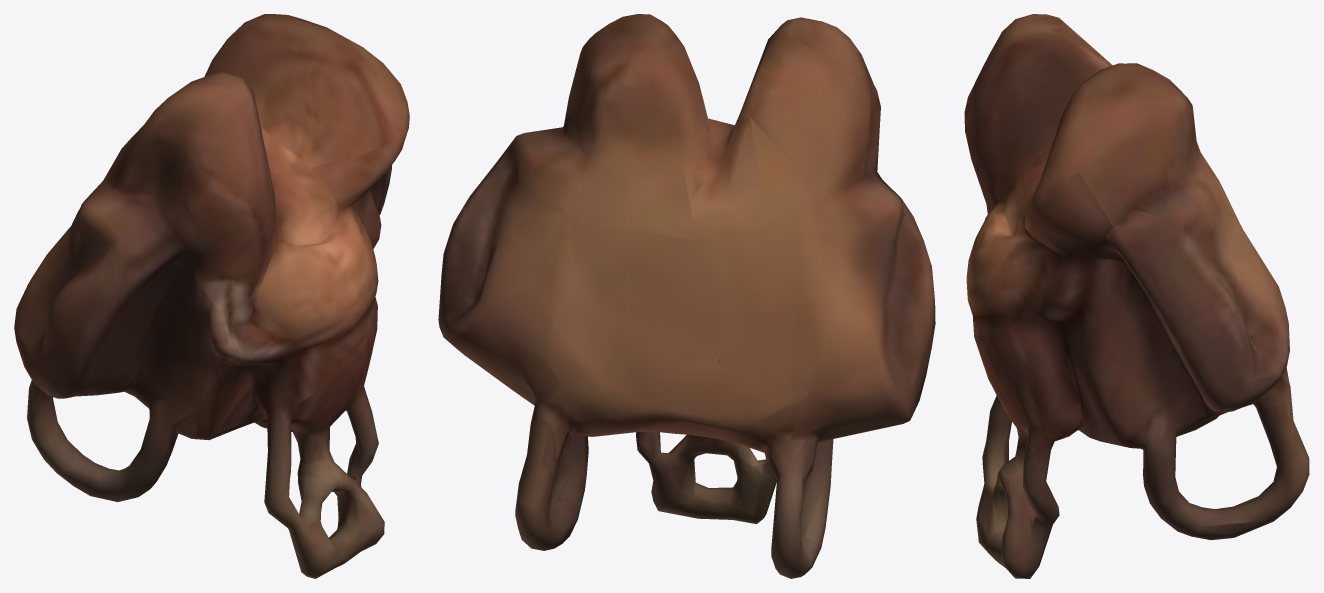
The model's file is v24_fardo_couro.glb.
3 renders of one model, left to right at view 1: azimuth 30°, elevation 25°; view 2: azimuth 150°, elevation 25°; view 3: azimuth 270°, elevation 25°, orthographic. The views are drawn at different scales.
Visible parts, largest first — view 1: v24_fardo_couro; view 2: v24_fardo_couro; view 3: v24_fardo_couro.
Boxes of the visible parts, box(x1,y1,x2,y2) form: v24_fardo_couro: box(14, 14, 409, 578); v24_fardo_couro: box(438, 14, 935, 578); v24_fardo_couro: box(964, 14, 1309, 578).
Bounding box in the file's own units: 0.4499 × 0.5469 × 0.344.
Materials: 1 (1 with a texture image).
